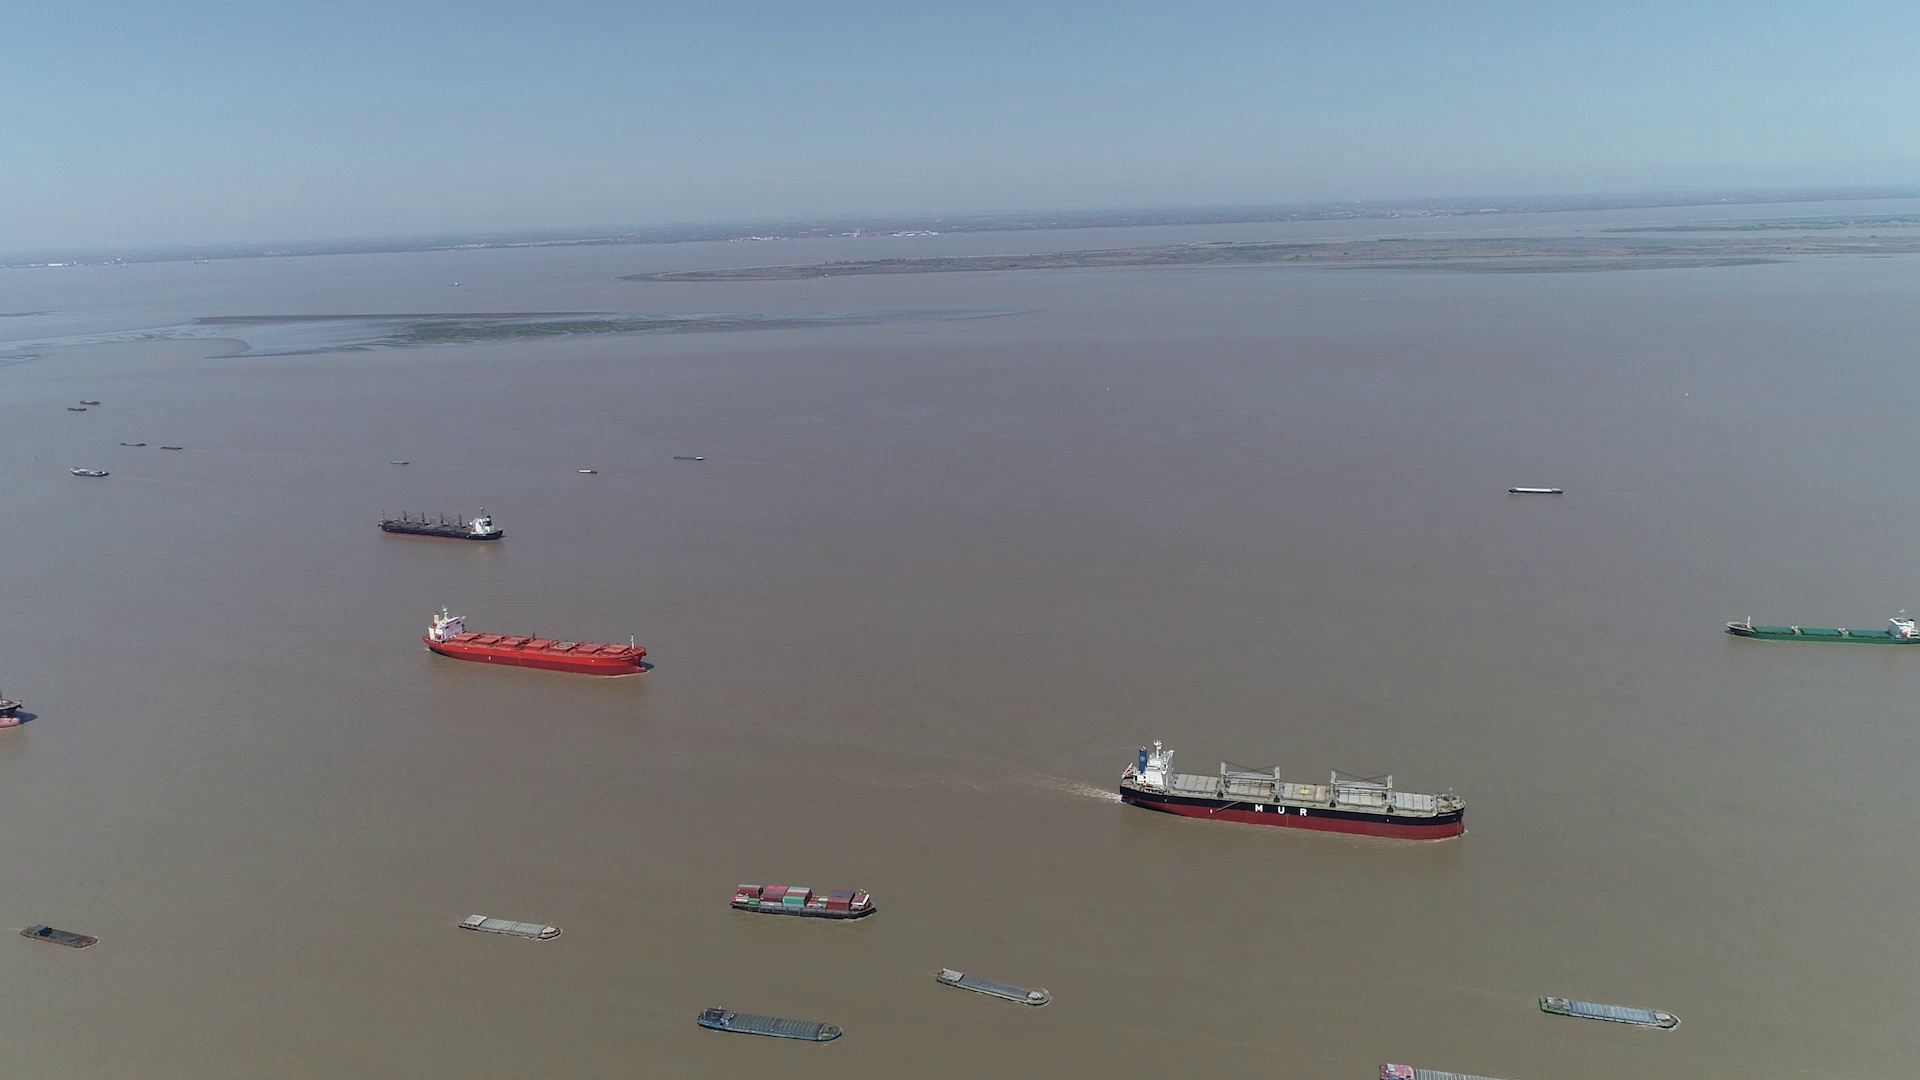ship: (1117, 742, 1466, 839), (423, 607, 649, 675), (1724, 612, 1920, 645), (729, 881, 876, 919), (700, 1009, 843, 1044), (935, 968, 1051, 1007), (1539, 996, 1677, 1029), (380, 508, 502, 542), (460, 913, 560, 939), (1378, 1060, 1509, 1080), (24, 923, 95, 949), (1, 690, 34, 732), (1506, 487, 1563, 496), (70, 465, 109, 477), (673, 455, 705, 462)
